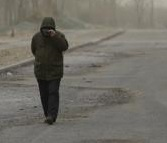person: (30, 15, 70, 126)
